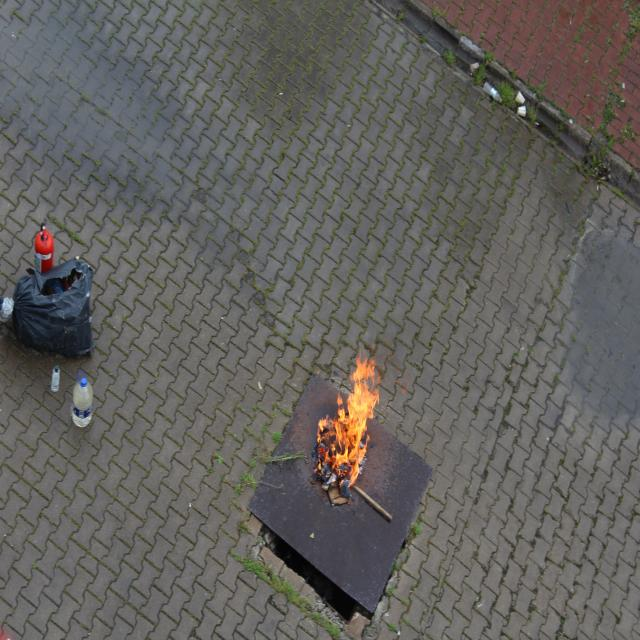fire: (318, 366, 392, 501)
